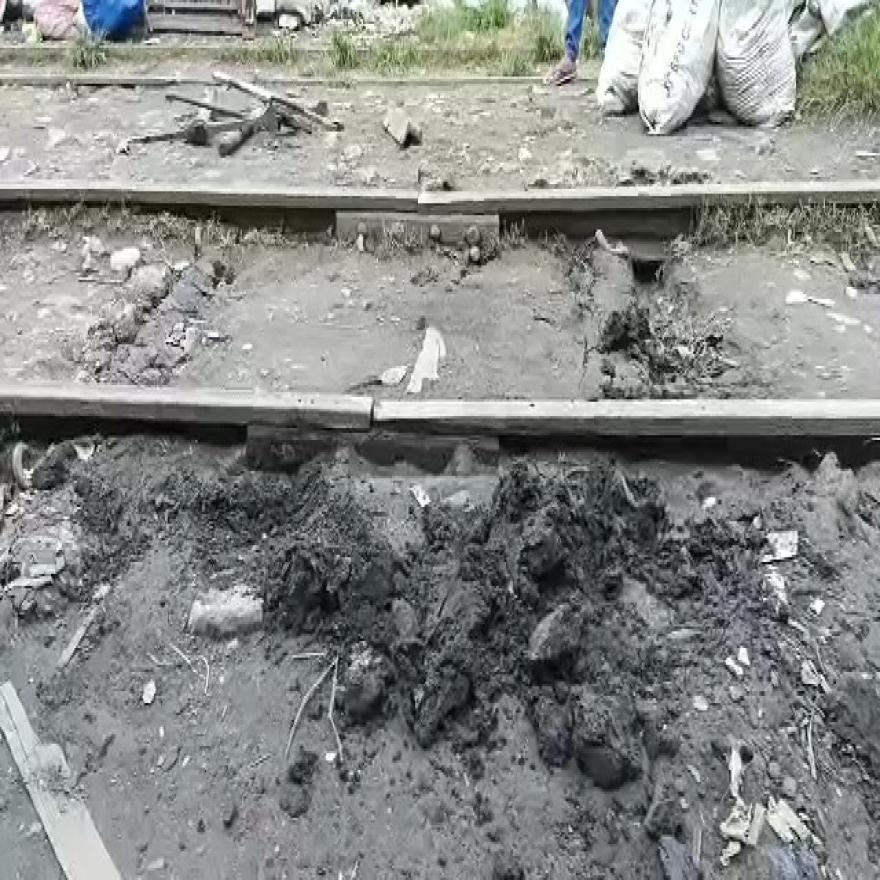railway-gap: (343, 359, 403, 464)
